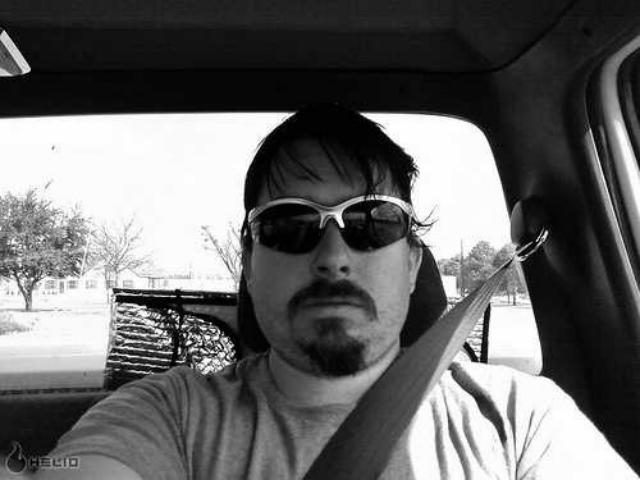Seatbelt: (300, 196, 540, 480)
